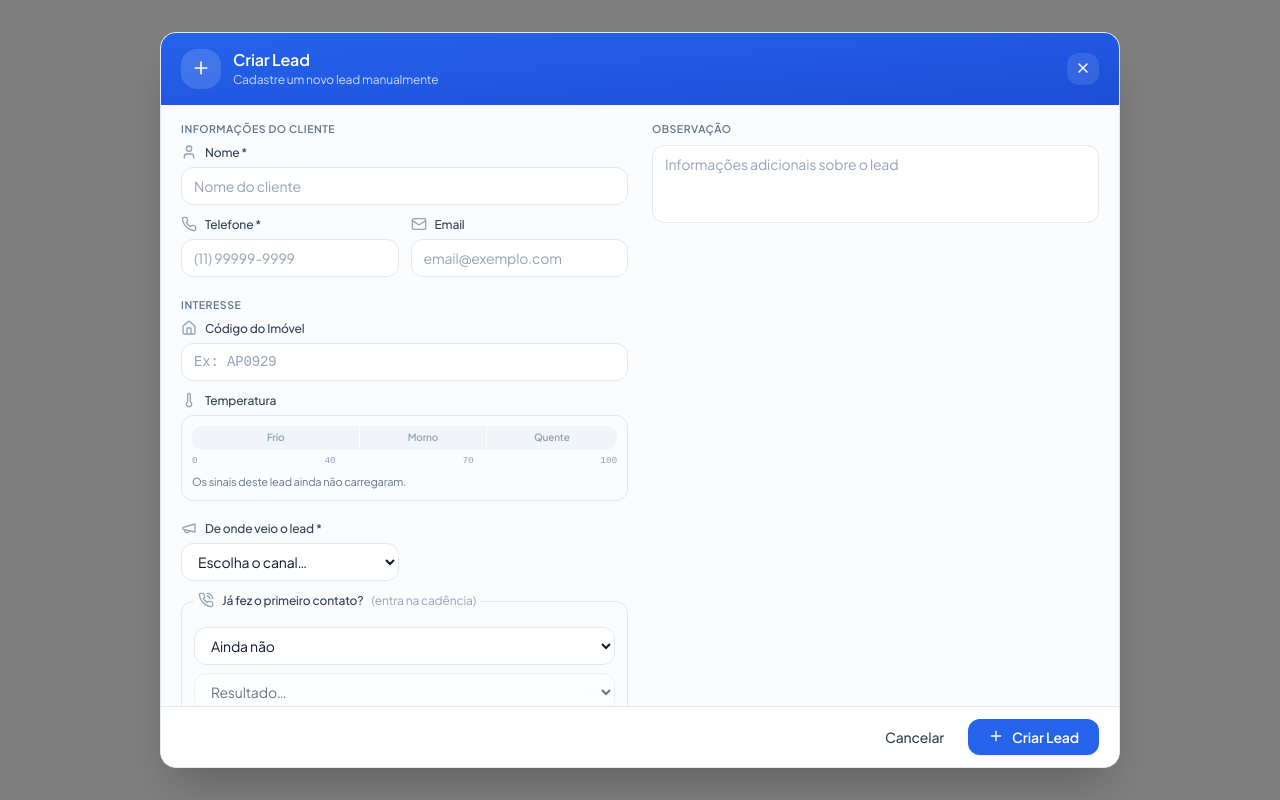
it: Novo lead: canal e primeiro toque › canal do contato sem resultado não passa
Type "Beltrano" into the field with placeholder "Nome do cliente" at (404, 186), box [181,167,628,205]
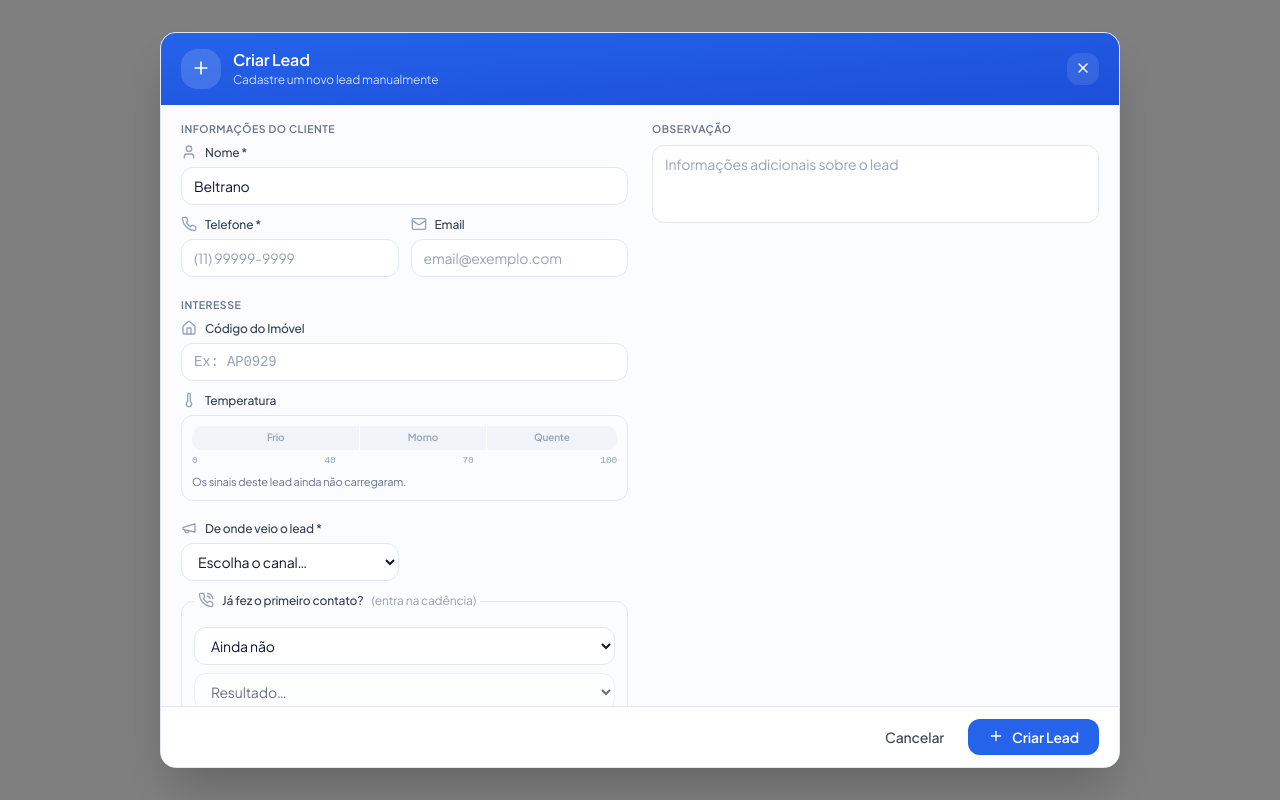
Type "11988887777" into the field with placeholder "(11) 99999-9999" at (290, 258), box [181,239,398,277]
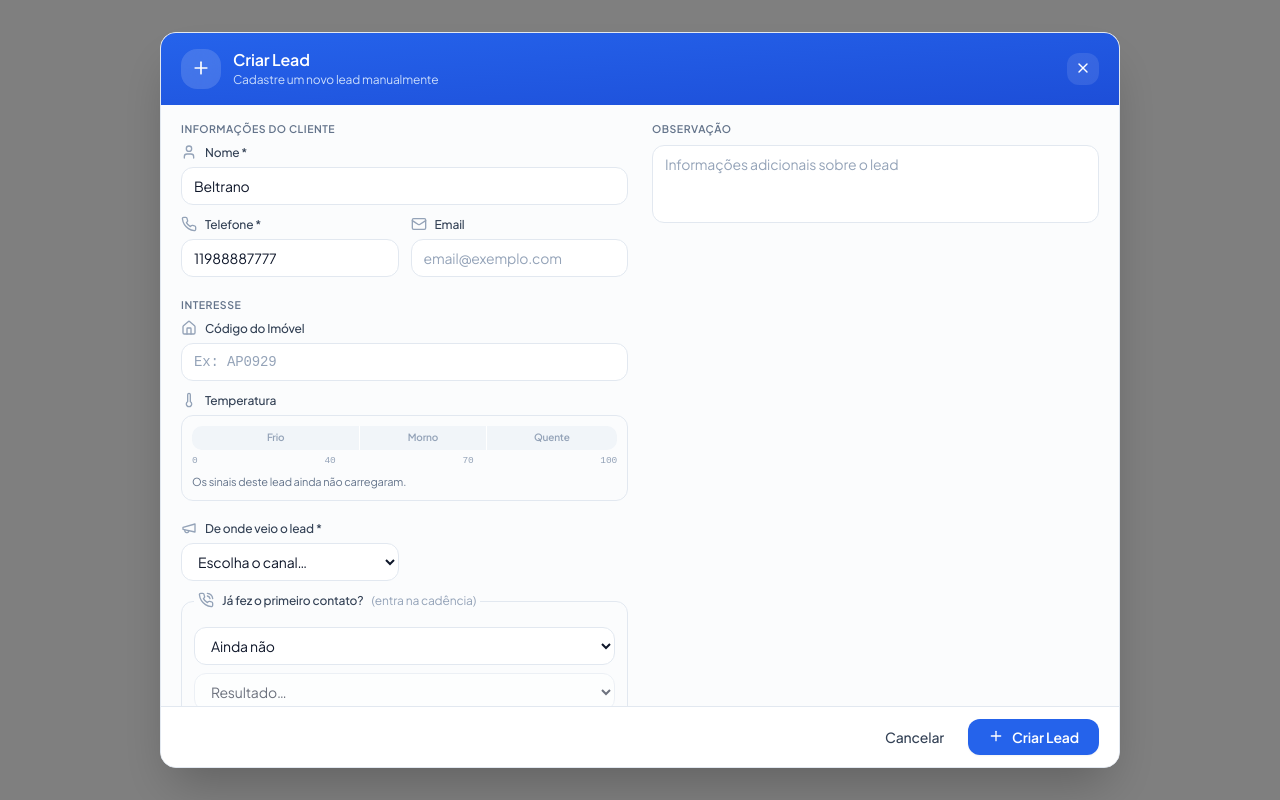
Select "Indicação" in the dropdown labelled "De onde veio o lead *" at (290, 562), box [181,543,398,581]
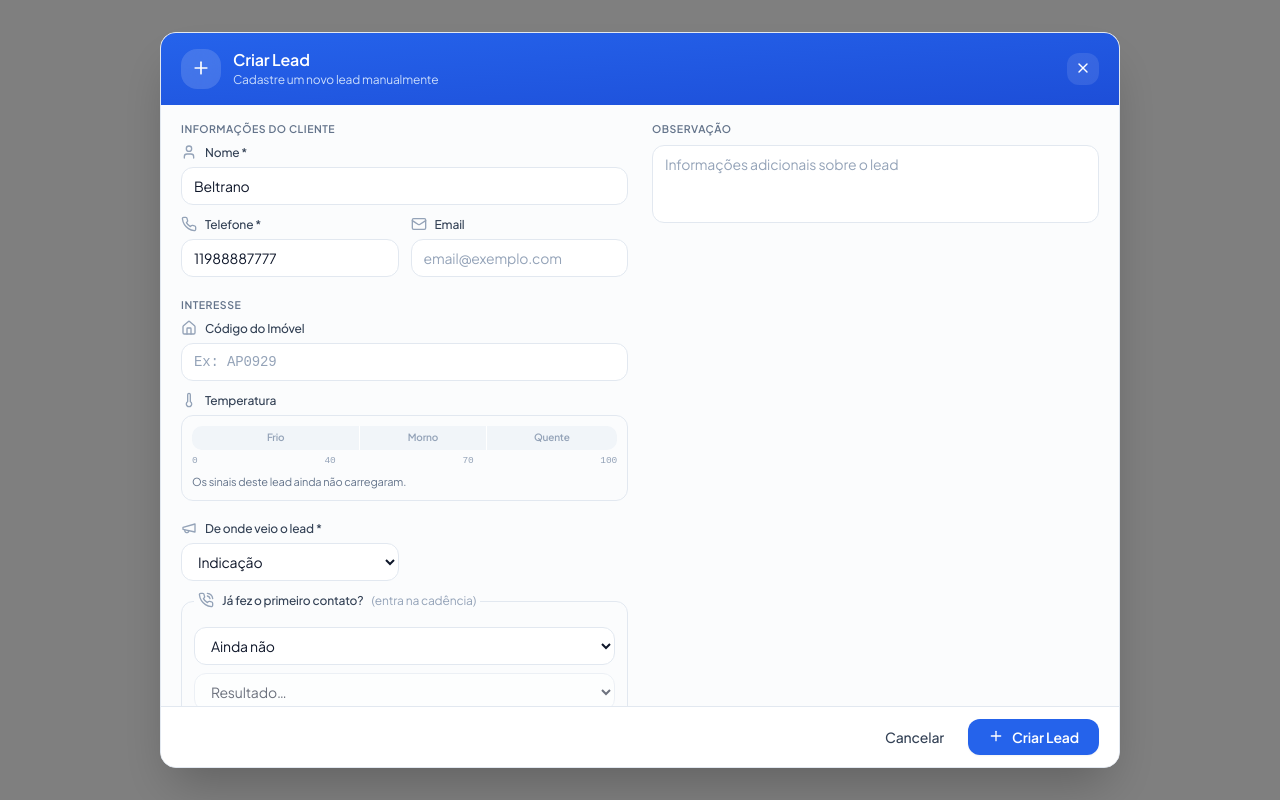
Select "Ligação" in the dropdown named "Por onde foi o contato" at (404, 646), box [194,627,615,665]
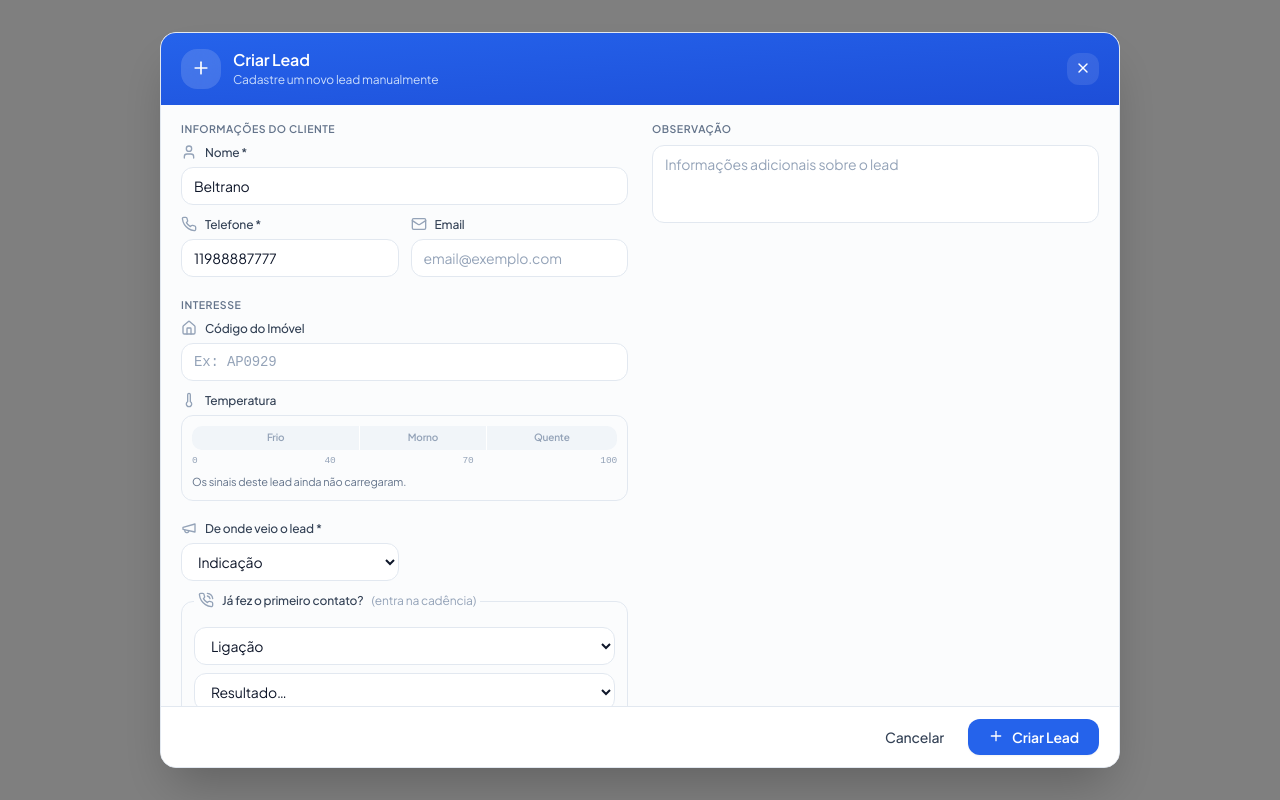
Click the button "Criar Lead" at (1034, 737), box [968,719,1099,755]
(page scrolled)
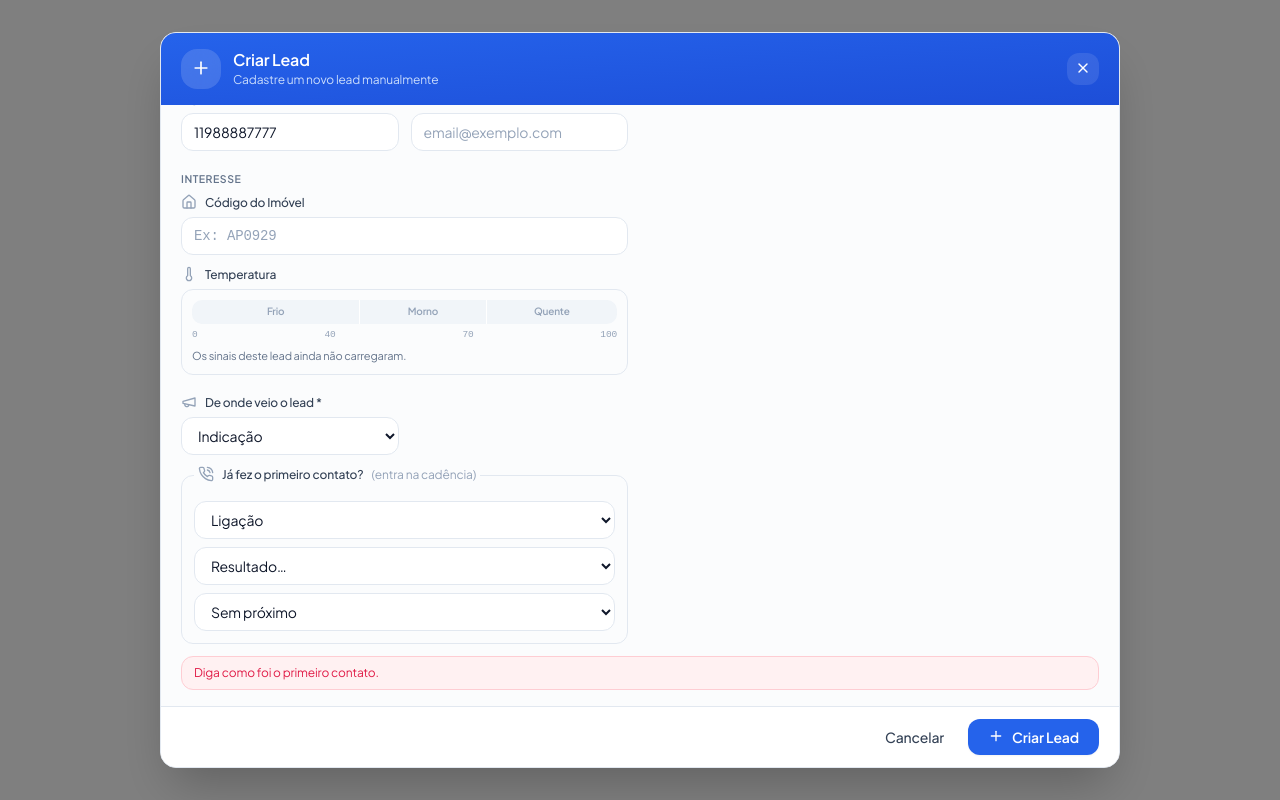
expect the text "Diga como foi o primeiro contato." is shown: met, box [181,656,1099,690]
